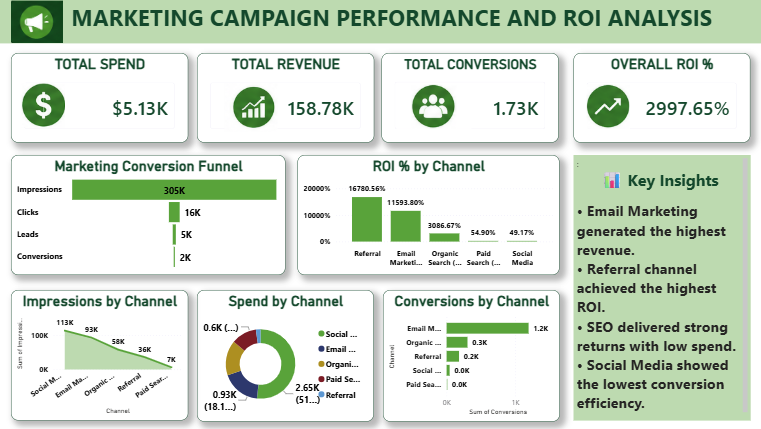

The dashboard page shown, as its layout file describes it:
{"tool":"powerbi","page":{"name":"Page 1","canvas":[1280,720],"ordinal":0},"visuals":[{"type":"textbox","box":[0,0,1279,73.7],"z":0},{"type":"image","box":[18.9,0,86.9,75.6],"z":1000},{"type":"cardVisual","title":"TOTAL SPEND","fields":{"Data":["marketing_data.Total Spend"]},"box":[18.9,88.8,295,149.3],"z":2000},{"type":"cardVisual","title":"TOTAL REVENUE","fields":{"Data":["marketing_data.Total Revenue"]},"box":[328.8,88.8,295,149.3],"z":3000},{"type":"cardVisual","title":"TOTAL CONVERSIONS","fields":{"Data":["marketing_data.Total Conversions"]},"box":[638.7,88.8,295,149.3],"z":4000},{"type":"cardVisual","title":"OVERALL ROI %","fields":{"Data":["marketing_data.ROI %"]},"box":[958.1,88.8,294.8,149.3],"z":5000},{"type":"image","box":[272.1,139.8,294.8,81.3],"z":6000},{"type":"image","box":[18.9,139.8,107.7,73.7],"z":7000},{"type":"image","box":[661.4,143.6,124.7,73.7],"z":8000},{"type":"image","box":[867.4,141.7,294.8,73.7],"z":9000},{"type":"columnChart","fields":{"Y":["marketing_data.ROI %"],"Category":["marketing_data.Channel"]},"box":[497,258.9,436.5,200.3],"z":10000},{"type":"donutChart","title":"Spend by Channel","fields":{"Y":["Sum(marketing_data.Spend)"],"Category":["marketing_data.Channel"]},"box":[328.8,483.8,294.8,219.2],"z":12000},{"type":"barChart","title":"Conversions by Channel","fields":{"Category":["marketing_data.Channel"],"Y":["Sum(marketing_data.Conversions)"]},"box":[640.6,483.8,294.8,219.2],"z":13000},{"type":"funnel","title":"Marketing Conversion Funnel","fields":{"Category":["Funnel_Data.Stage"],"Y":["Sum(Funnel_Data.Value)"]},"box":[18.9,258.9,457.3,200.3],"z":14000},{"type":"textSlicer","box":[958,259,295,200],"z":15000},{"type":"textbox","box":[957.5,260,295,442.5],"z":16000},{"type":"areaChart","title":"Impressions by Channel","fields":{"Category":["marketing_data.Channel"],"Y":["Sum(marketing_data.Impressions)"]},"box":[20,485,295,217.5],"z":16001}]}

Visuals, with their boxes in screenshot pixels (x1, y1, x2, y2), scaled from the page's 1280x720 canvas onto the 761x429 screenshot:
textbox: <bbox>0, 0, 760, 44</bbox>
image: <bbox>11, 0, 63, 45</bbox>
"TOTAL SPEND" cardVisual: <bbox>11, 53, 187, 142</bbox>
"TOTAL REVENUE" cardVisual: <bbox>195, 53, 371, 142</bbox>
"TOTAL CONVERSIONS" cardVisual: <bbox>380, 53, 555, 142</bbox>
"OVERALL ROI %" cardVisual: <bbox>570, 53, 745, 142</bbox>
image: <bbox>162, 83, 337, 132</bbox>
image: <bbox>11, 83, 75, 127</bbox>
image: <bbox>393, 86, 467, 129</bbox>
image: <bbox>516, 84, 691, 128</bbox>
columnChart - marketing_data.ROI % x marketing_data.Channel: <bbox>295, 154, 555, 274</bbox>
"Spend by Channel" donutChart: <bbox>195, 288, 371, 419</bbox>
"Conversions by Channel" barChart: <bbox>381, 288, 556, 419</bbox>
"Marketing Conversion Funnel" funnel: <bbox>11, 154, 283, 274</bbox>
textSlicer: <bbox>570, 154, 745, 273</bbox>
textbox: <bbox>569, 155, 745, 419</bbox>
"Impressions by Channel" areaChart: <bbox>12, 289, 187, 419</bbox>
